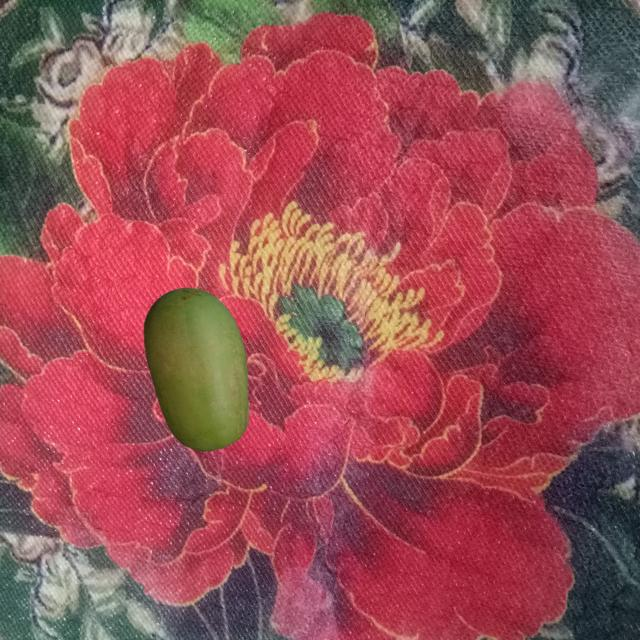Pepaya unrippen: (132, 286, 262, 456)
